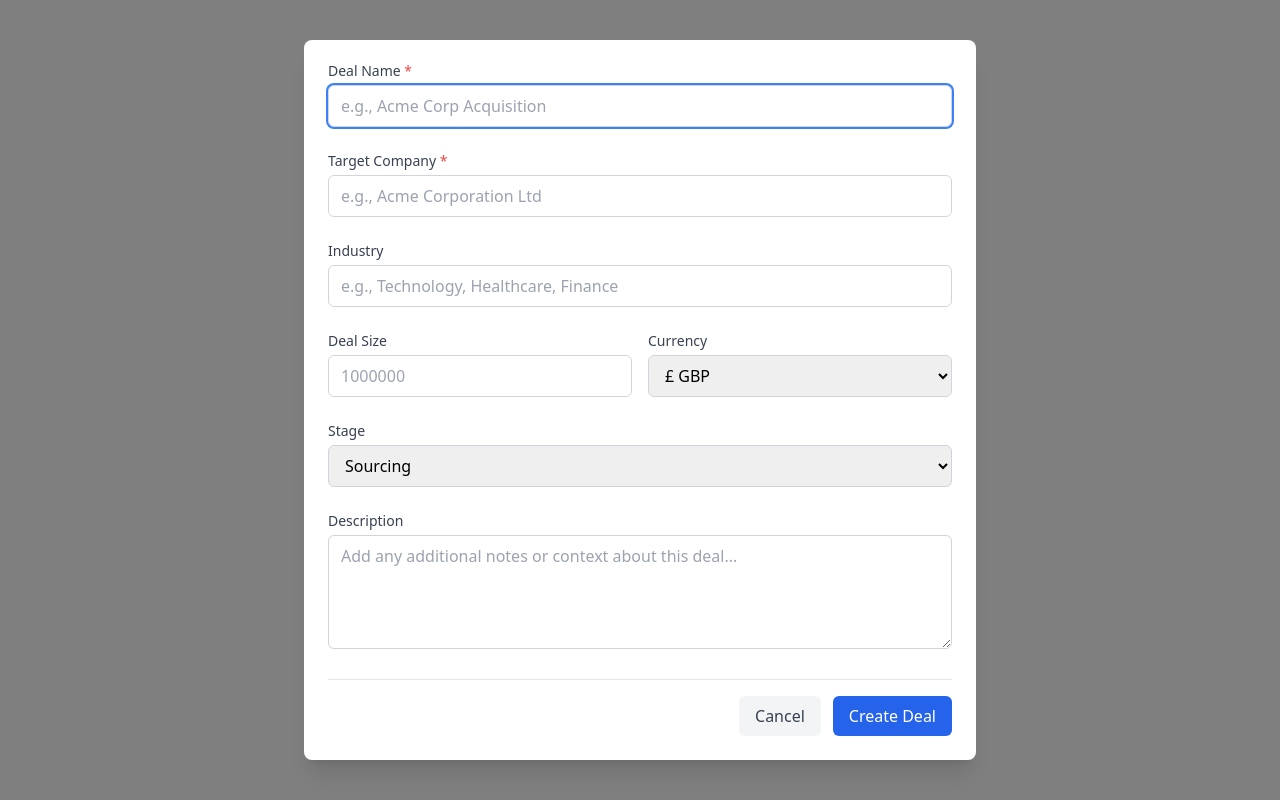
Test: CreateDealModal › Form Validation › should show error for empty deal name
(page scrolled)
Click the button "Create Deal".
click(892, 716)  # box top-left (833, 696), bottom-right (952, 736)
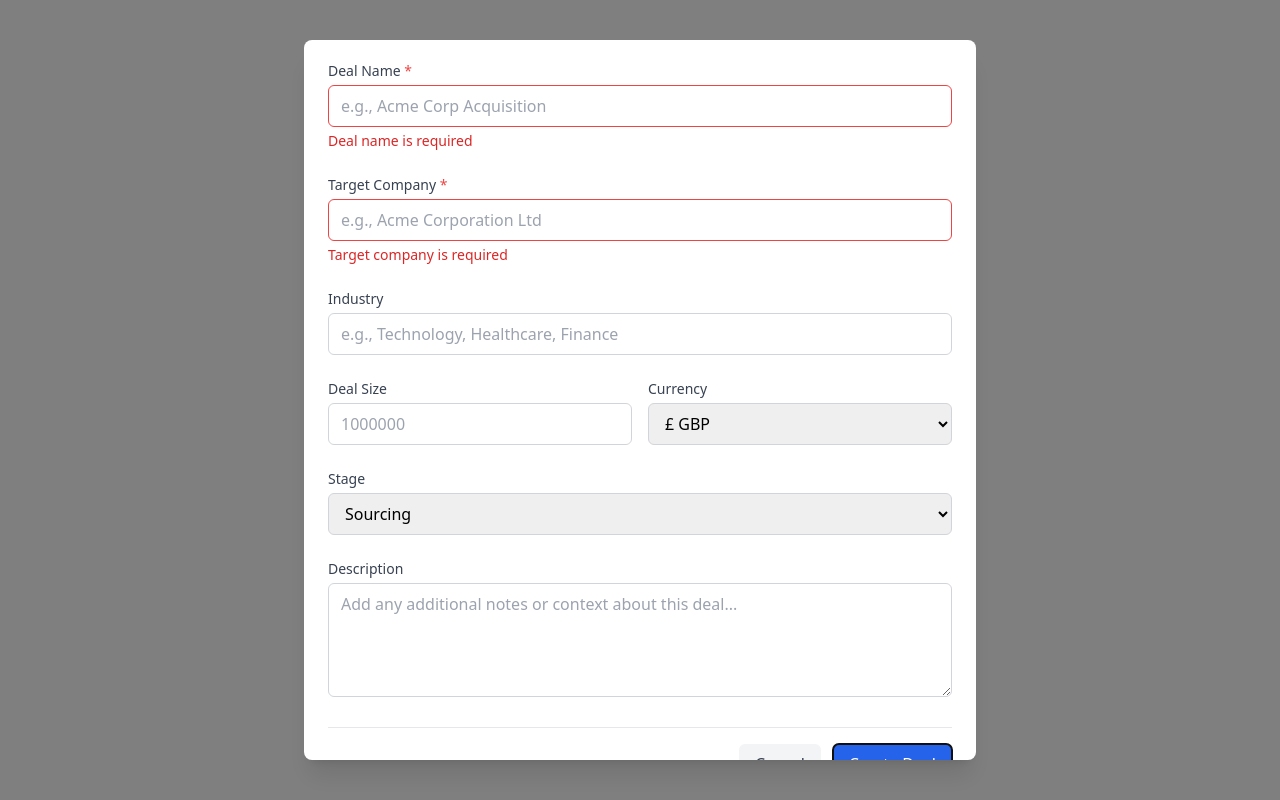
Now the text "Deal name is required" is shown, box top-left (328, 131), bottom-right (473, 150)
